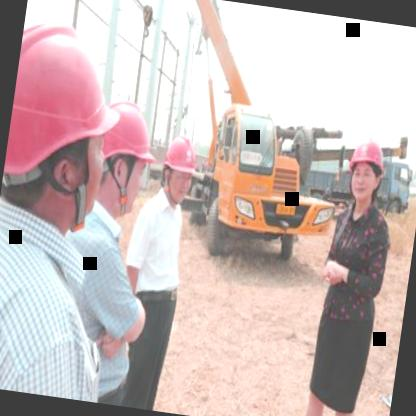helmet: (0, 0, 136, 232), (82, 87, 158, 218), (155, 126, 202, 210), (342, 131, 392, 208)
